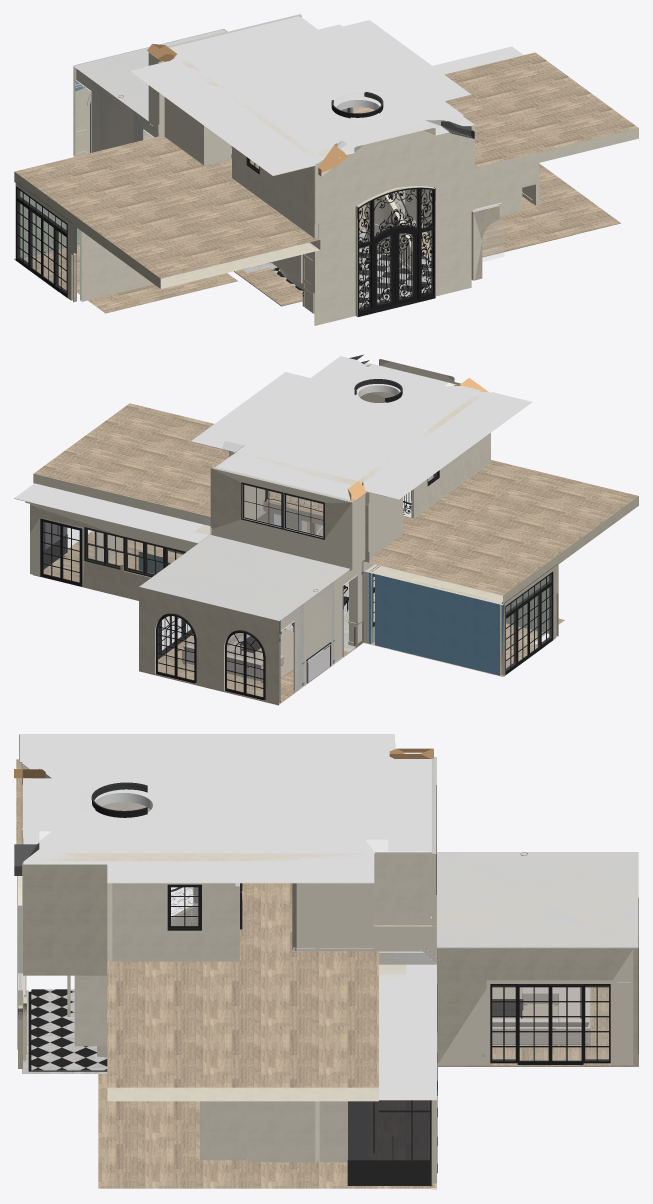
File: family-room-4024f32d4d5b.glb
3 renders of one model, top to bottom at view 1: azimuth 30°, elevation 25°; view 2: azimuth 150°, elevation 25°; view 3: azimuth 270°, elevation 25°, orthographic. The views are drawn at different scales.
Parts seen in each view (by area): view 1: family-room-look-2575515a05775d9e, family-room-look-e8793759323e04f0, family-room-look-9d91b47435c6fb33, family-room-look-34525a54e63b733b, family-room-look-3b0077416469e01b, family-room-look-d5a4a1b5d3594c04, family-room-look-5f56640b372ec5ce, family-room-look-746250f96522f643, family-room-4a969f5cc1ae3dfe, family-room-look-bce662e26d5a5947, family-room-look-d999b7e09afcf2f4, family-room-9d80b152e3f2ea10 (+30 smaller); view 2: family-room-look-2575515a05775d9e, family-room-look-e8793759323e04f0, family-room-look-9d91b47435c6fb33, family-room-4a969f5cc1ae3dfe, family-room-look-b19b106fc304963c, family-room-look-245f595ae2832e16, family-room-969b861f9850351e, family-room-look-bfb9fa537cd11d1d, family-room-9d80b152e3f2ea10, family-room-look-9a0e9ee9b2a451d7, family-room-look-5f56640b372ec5ce, family-room-50d54560d247b537 (+27 smaller); view 3: family-room-look-2575515a05775d9e, family-room-look-e8793759323e04f0, family-room-look-9d91b47435c6fb33, family-room-4a969f5cc1ae3dfe, family-room-look-3b0077416469e01b, family-room-e706aa16b4547c37, family-room-look-62353aa10fc57f23, family-room-50d54560d247b537, family-room-look-c51ecd664a3b22a3, family-room-look-9a0e9ee9b2a451d7, family-room-look-5f56640b372ec5ce, family-room-look-69af8f587252f9fa (+26 smaller).
Boxes of the visible parts, <box> form: family-room-look-2575515a05775d9e: <box>14,52,638,288</box>; family-room-look-e8793759323e04f0: <box>180,23,463,158</box>; family-room-look-9d91b47435c6fb33: <box>130,16,474,175</box>; family-room-look-34525a54e63b733b: <box>314,126,471,244</box>; family-room-look-3b0077416469e01b: <box>14,163,620,306</box>; family-room-look-d5a4a1b5d3594c04: <box>314,208,471,325</box>; family-room-look-5f56640b372ec5ce: <box>254,81,404,139</box>; family-room-look-746250f96522f643: <box>232,146,317,238</box>; family-room-4a969f5cc1ae3dfe: <box>73,29,226,120</box>; family-room-look-bce662e26d5a5947: <box>357,187,435,316</box>; family-room-look-d999b7e09afcf2f4: <box>80,230,153,301</box>; family-room-9d80b152e3f2ea10: <box>76,69,158,152</box>; family-room-look-2575515a05775d9e: <box>33,403,638,604</box>; family-room-look-e8793759323e04f0: <box>222,356,481,485</box>; family-room-look-9d91b47435c6fb33: <box>191,362,532,500</box>; family-room-4a969f5cc1ae3dfe: <box>139,534,349,621</box>; family-room-look-b19b106fc304963c: <box>375,573,501,675</box>; family-room-look-245f595ae2832e16: <box>210,467,352,568</box>; family-room-969b861f9850351e: <box>139,587,280,704</box>; family-room-look-bfb9fa537cd11d1d: <box>30,502,197,600</box>; family-room-9d80b152e3f2ea10: <box>280,562,362,691</box>; family-room-look-9a0e9ee9b2a451d7: <box>14,483,208,543</box>; family-room-look-5f56640b372ec5ce: <box>325,377,464,430</box>; family-room-50d54560d247b537: <box>139,534,348,620</box>; family-room-look-2575515a05775d9e: <box>16,759,378,1101</box>; family-room-look-e8793759323e04f0: <box>39,756,388,861</box>; family-room-look-9d91b47435c6fb33: <box>19,734,431,883</box>; family-room-4a969f5cc1ae3dfe: <box>436,852,638,948</box>; family-room-look-3b0077416469e01b: <box>98,920,436,1188</box>; family-room-e706aa16b4547c37: <box>437,948,633,1065</box>; family-room-look-62353aa10fc57f23: <box>23,865,112,975</box>; family-room-50d54560d247b537: <box>436,852,638,948</box>; family-room-look-c51ecd664a3b22a3: <box>112,883,239,961</box>; family-room-look-9a0e9ee9b2a451d7: <box>379,964,436,1100</box>; family-room-look-5f56640b372ec5ce: <box>83,756,196,825</box>; family-room-look-69af8f587252f9fa: <box>292,883,373,947</box>.
Size of the model in its own units: 21.02 by 7.01 by 16.88.
62 materials, 12 textured.
